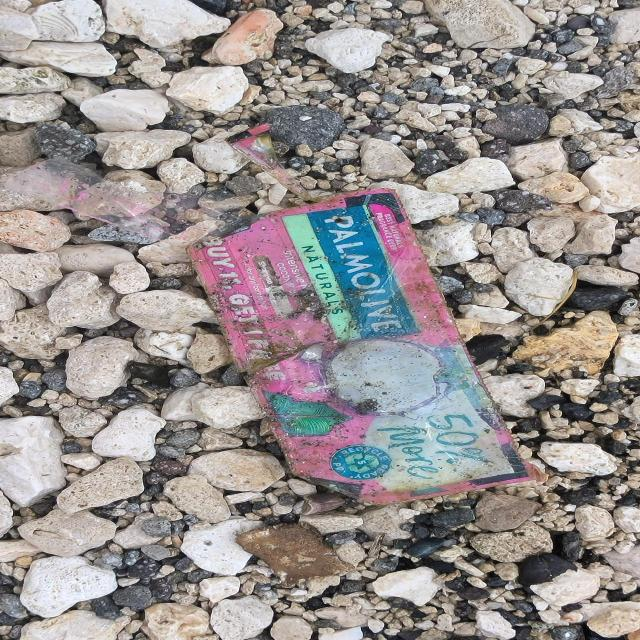plastic_waste: (194, 193, 538, 511)
